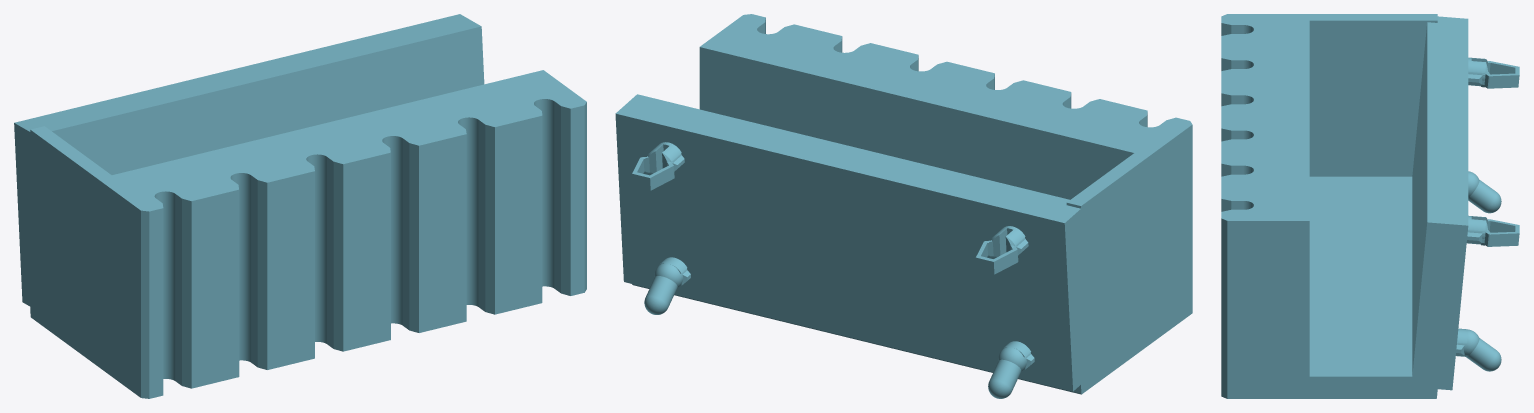
Rendered from part-mh01__current-mounts-v1__fit-pf02c9-hoop5__print.glb.
3 views of the same model, side by side, from view 1: azimuth 30°, elevation 25°; view 2: azimuth 150°, elevation 25°; view 3: azimuth 270°, elevation 25° (orthographic). The views are drawn at different scales.
Visible parts, largest first — view 1: print.stl; view 2: print.stl; view 3: print.stl.
Part boxes in pixels (x1,y1,x2,y2): print.stl: (14,14,586,398); print.stl: (615,14,1192,398); print.stl: (1221,14,1519,398).
Size of the model in its own units: 0.0996 by 0.04 by 0.0607.
